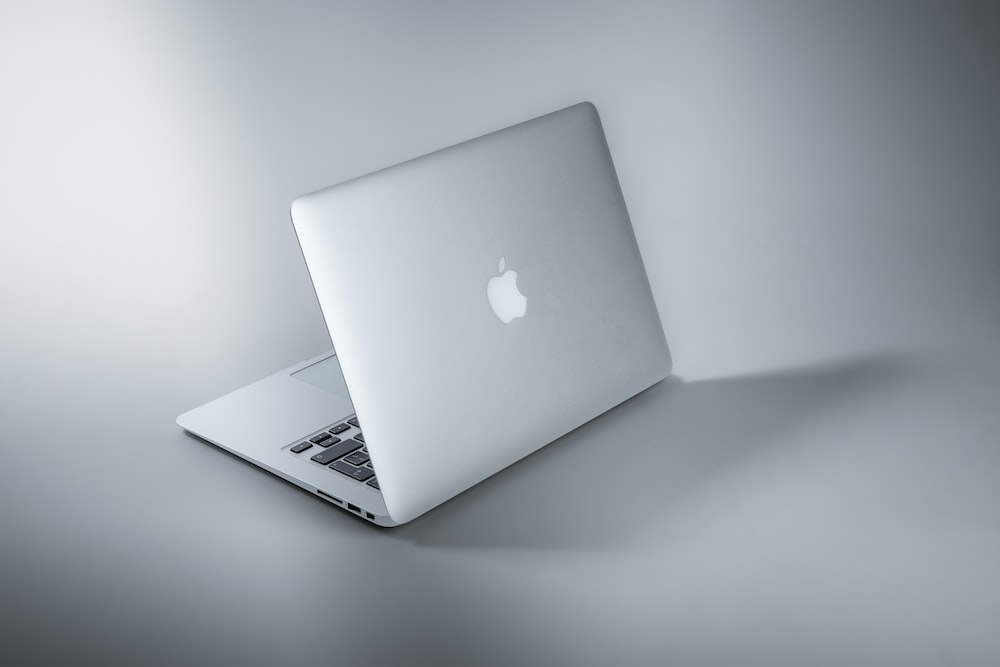laptop: (171, 94, 705, 543)
